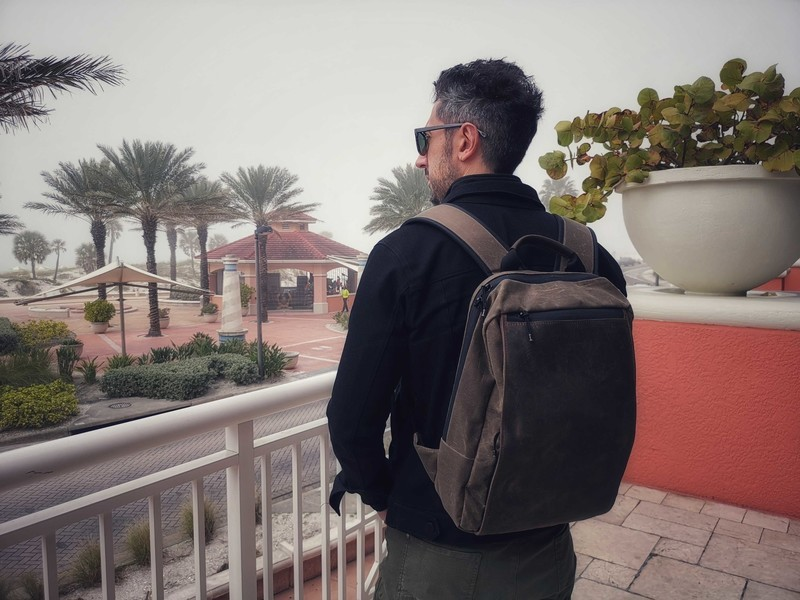backpack: (405, 201, 644, 544)
people: (324, 52, 595, 591)
